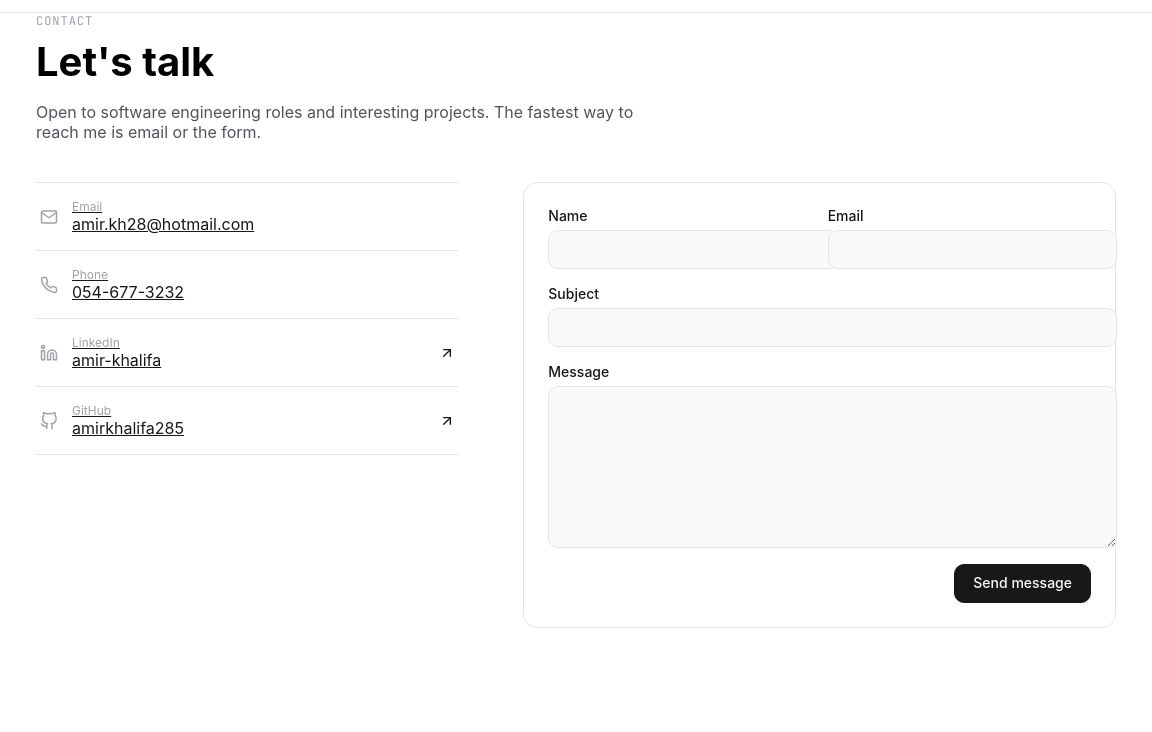
Test: posts the form to the API Gateway endpoint and shows success
Type "Jane" into the field labelled "Name". click: (693, 250)
box: [548, 230, 838, 269]
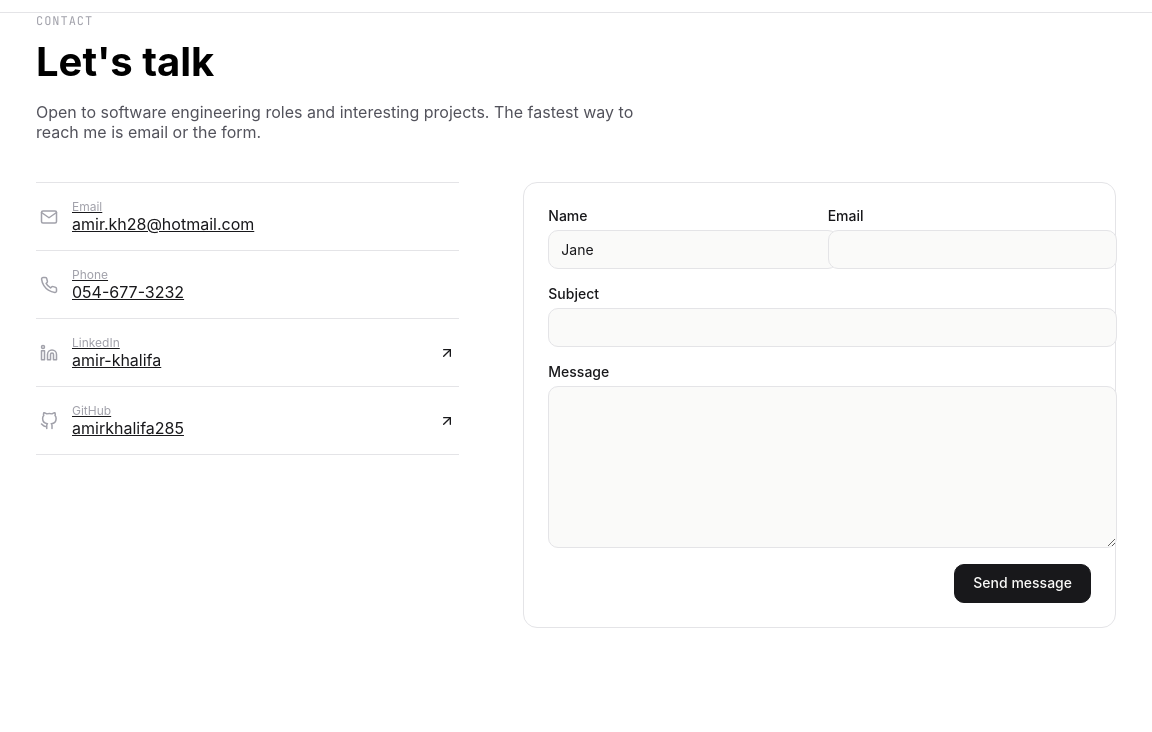
Type "jane@example.com" into the field labelled "Email". click: (972, 250)
box: [828, 230, 1117, 269]
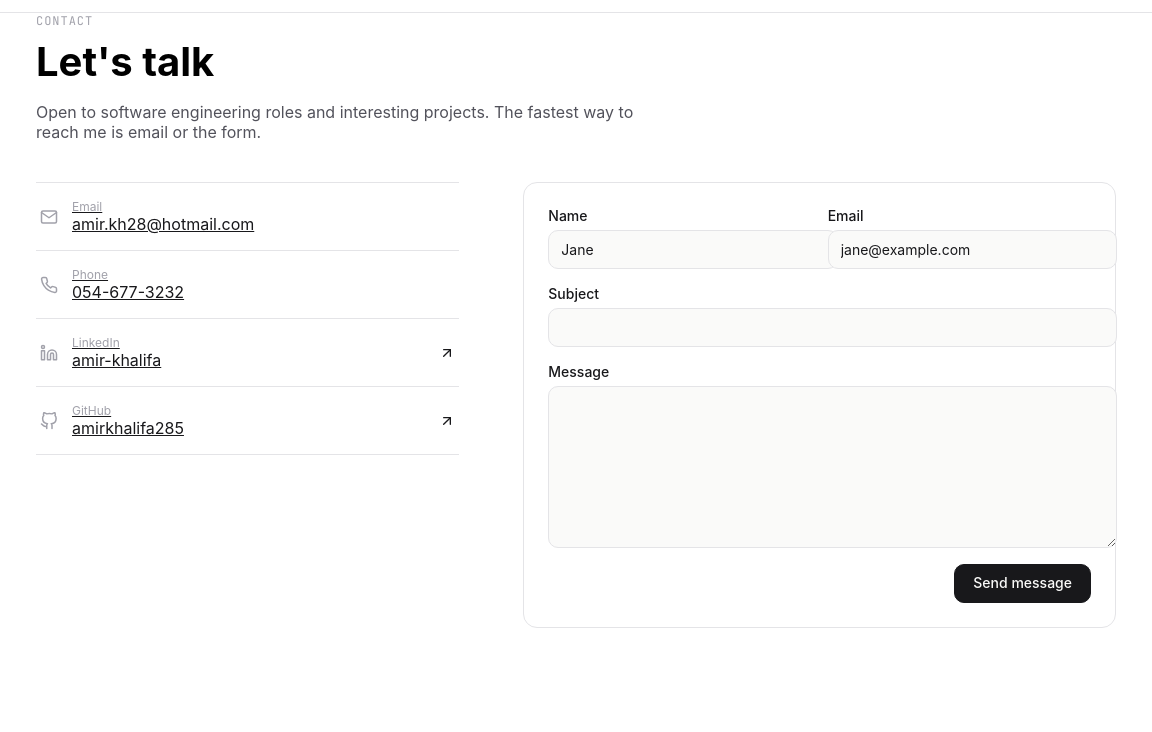
Type "Hello" into the field labelled "Subject". click: (833, 328)
box: [548, 308, 1117, 347]
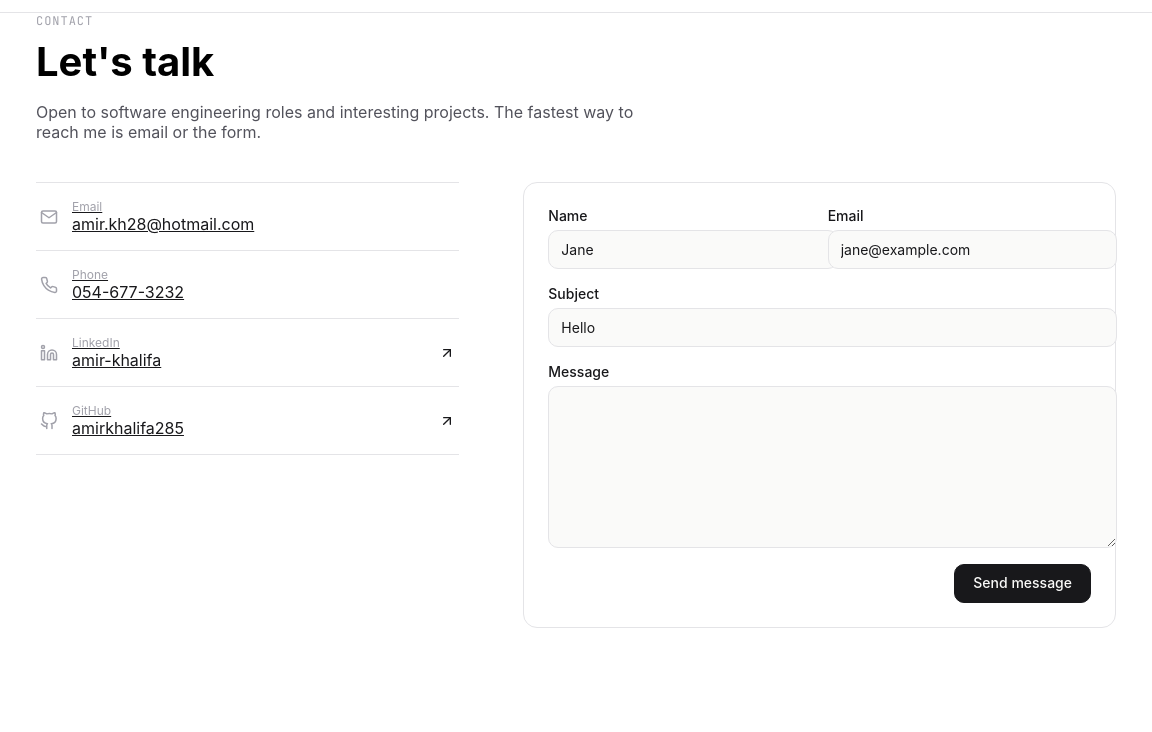
Type "This is a test message." into the text box labelled "Message". click: (833, 467)
box: [548, 386, 1117, 548]
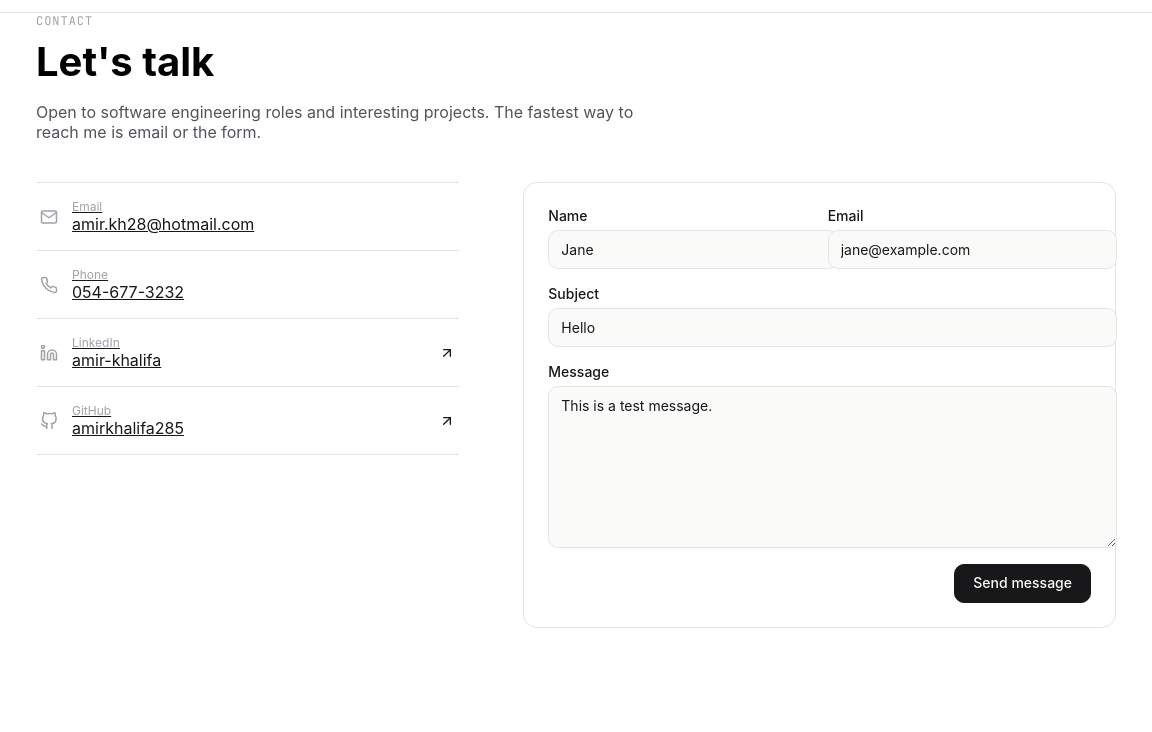
Click the button "Send message". click: (1023, 583)
box: [954, 564, 1091, 603]
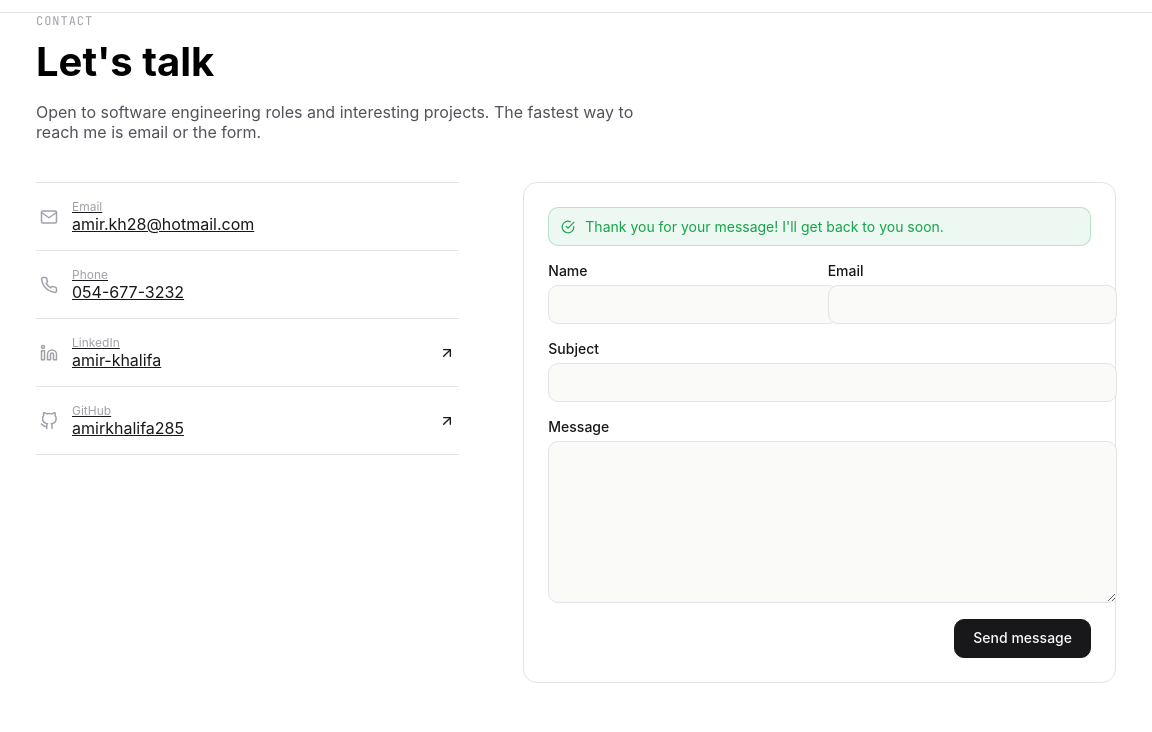
Expected: the message shows "Thank you", [585, 218, 944, 235]
